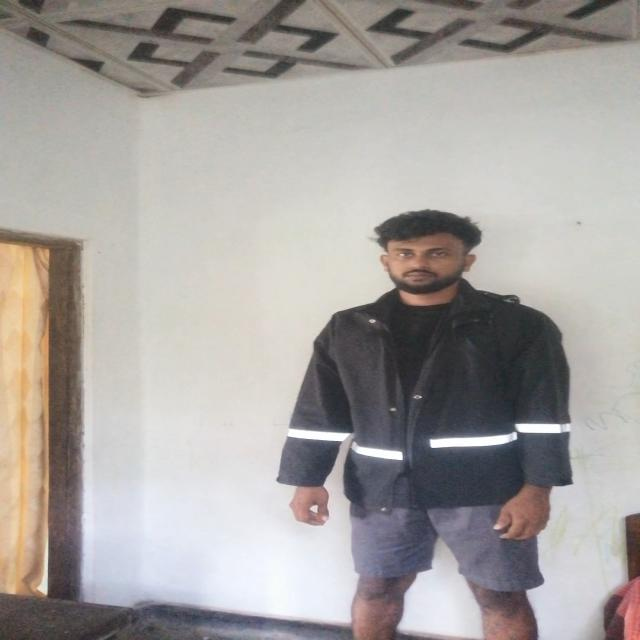Jacket_Wearer: (276, 287, 576, 533)
